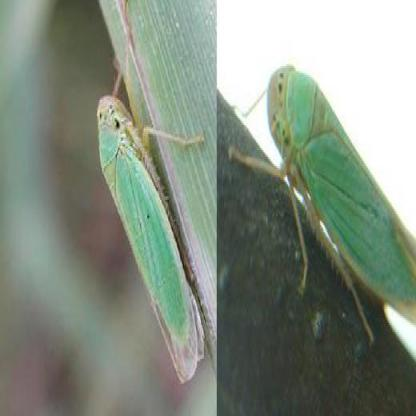Green-Leafhopper: (231, 58, 416, 352), (94, 68, 211, 386)
